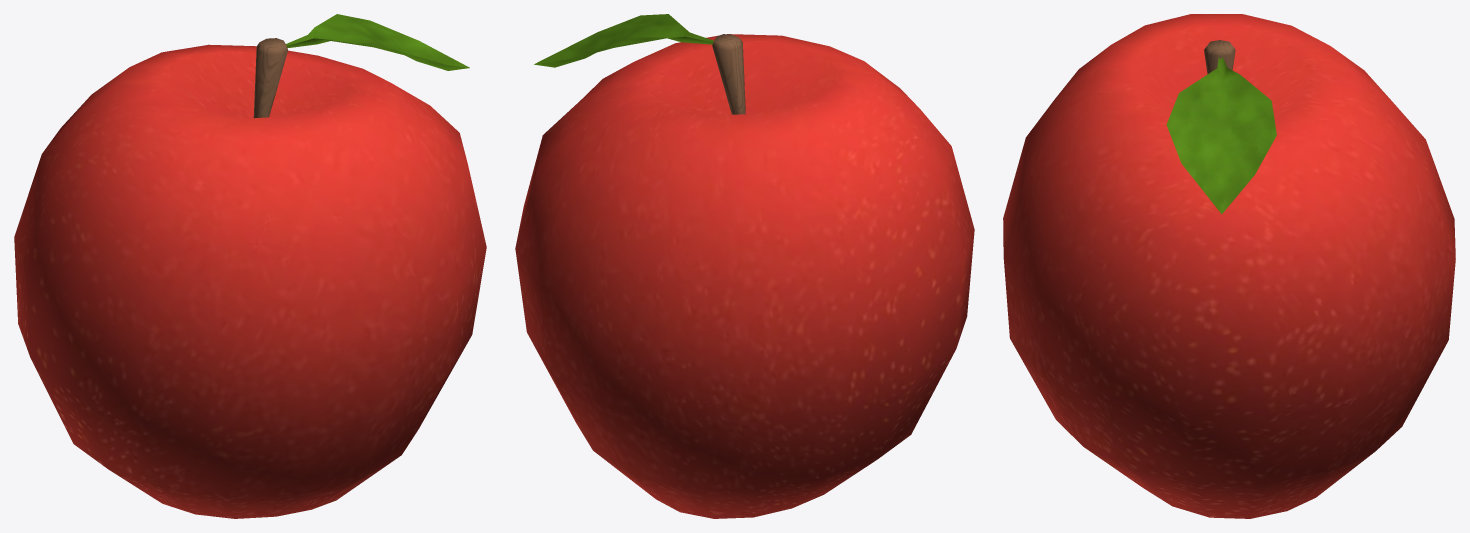
Rendered from apple-webp.glb.
3 views of the same model, side by side, from view 1: azimuth 30°, elevation 25°; view 2: azimuth 150°, elevation 25°; view 3: azimuth 270°, elevation 25° (orthographic). The views are drawn at different scales.
Visible parts, largest first — view 1: applered; view 2: applered; view 3: applered.
Boxes of the visible parts, box(x1,y1,x2,y2) form: applered: box(14, 14, 486, 518); applered: box(515, 14, 974, 518); applered: box(1003, 14, 1455, 518).
Size of the model in its own units: 0.2917 by 0.2963 by 0.2742.
1 material, 1 textured.
